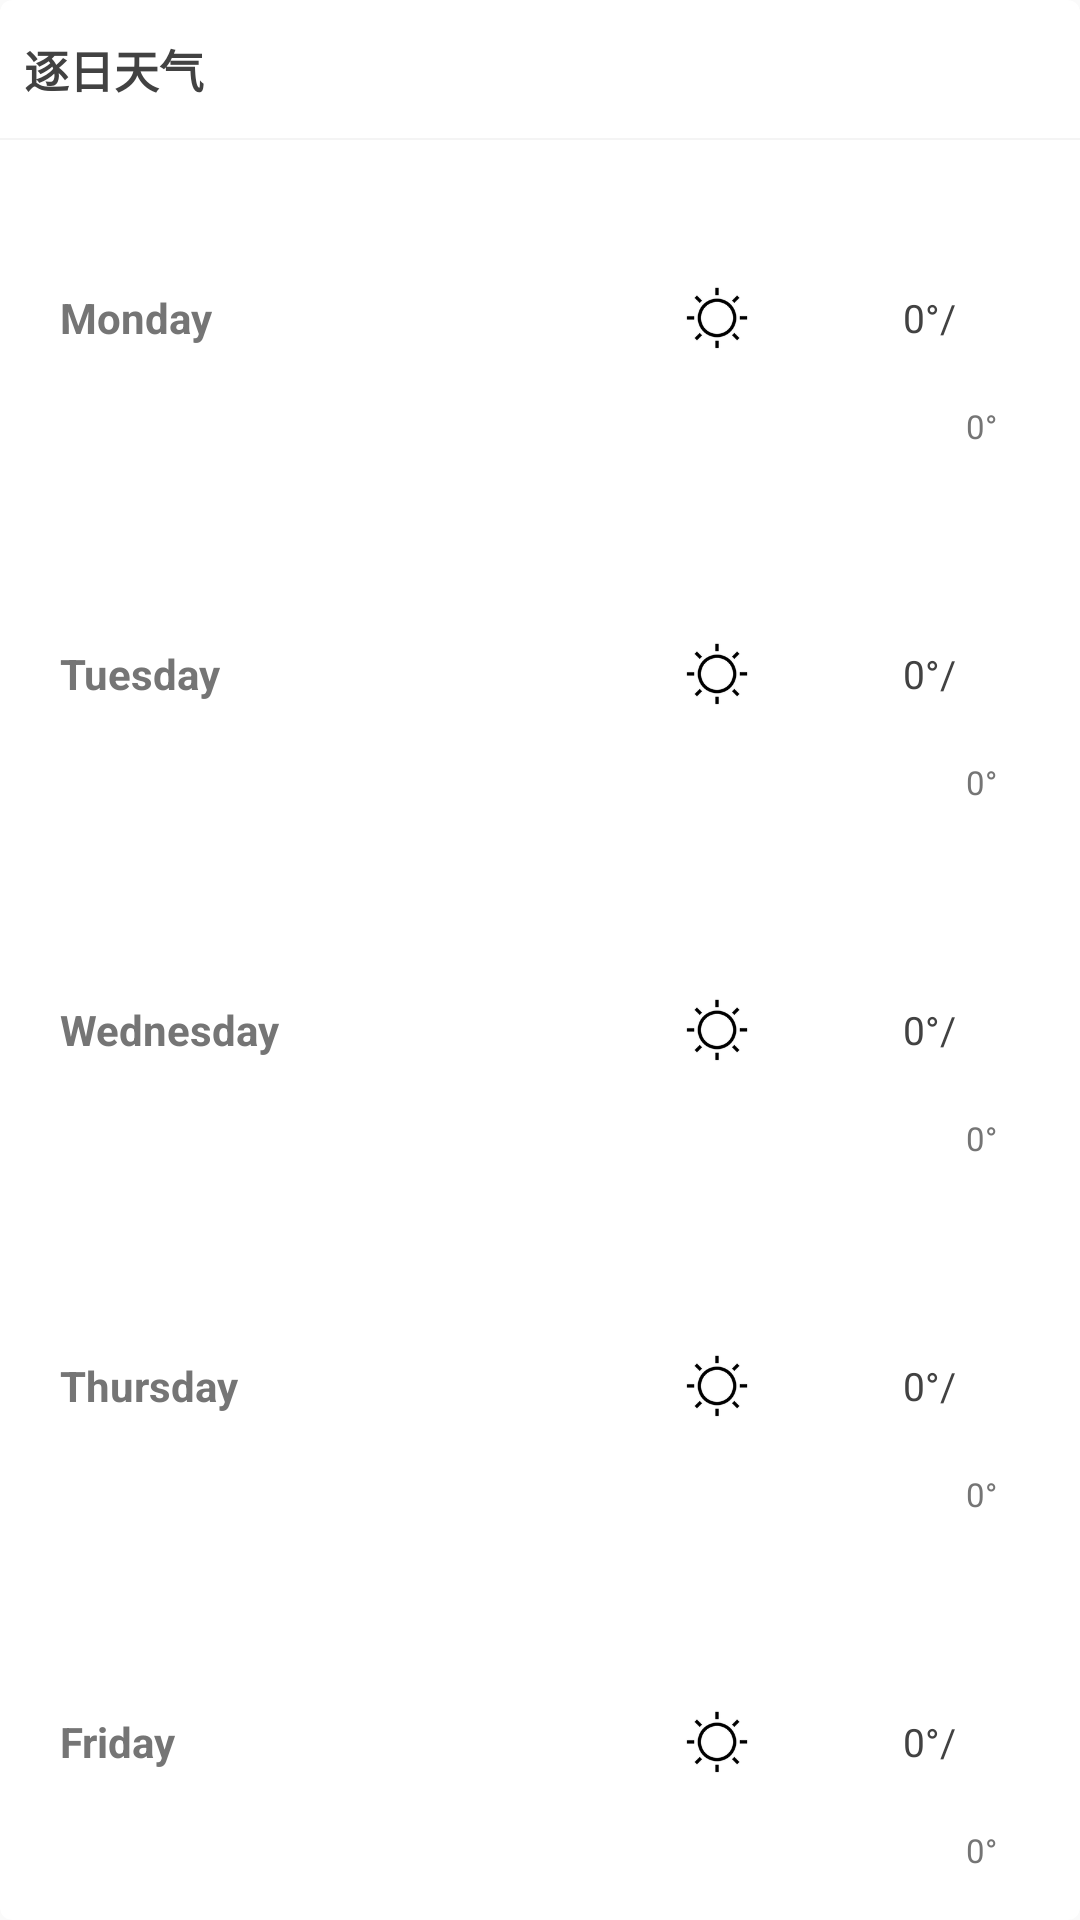

Locate icon controls on the screen. Image size 1080 × 1920, boxes as (x1, y1, x2, y2).
samsung sun: (686, 287, 748, 348), (686, 643, 748, 704), (686, 999, 748, 1060), (686, 1355, 748, 1416), (686, 1711, 748, 1772)
